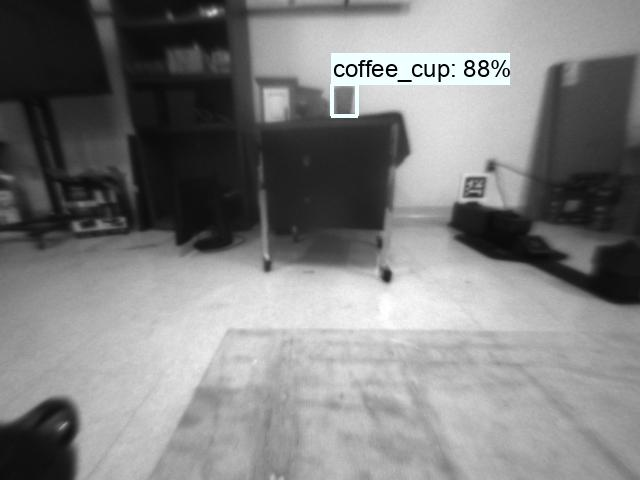coffee_cup: (331, 84, 356, 114)
